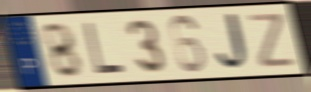3: (127, 18, 167, 75)
6: (169, 13, 208, 76)
8: (42, 20, 83, 80)
J: (215, 10, 255, 74)
L: (82, 20, 127, 77)
Z: (246, 11, 298, 70)
